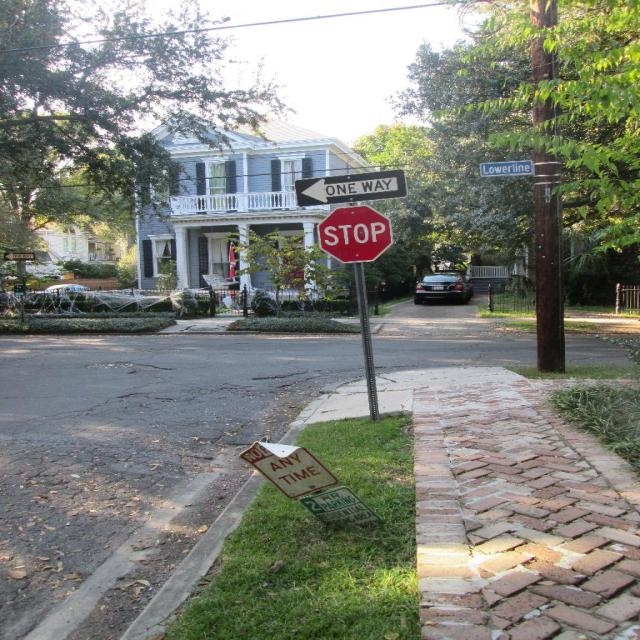Stop-sign: (315, 205, 397, 264)
